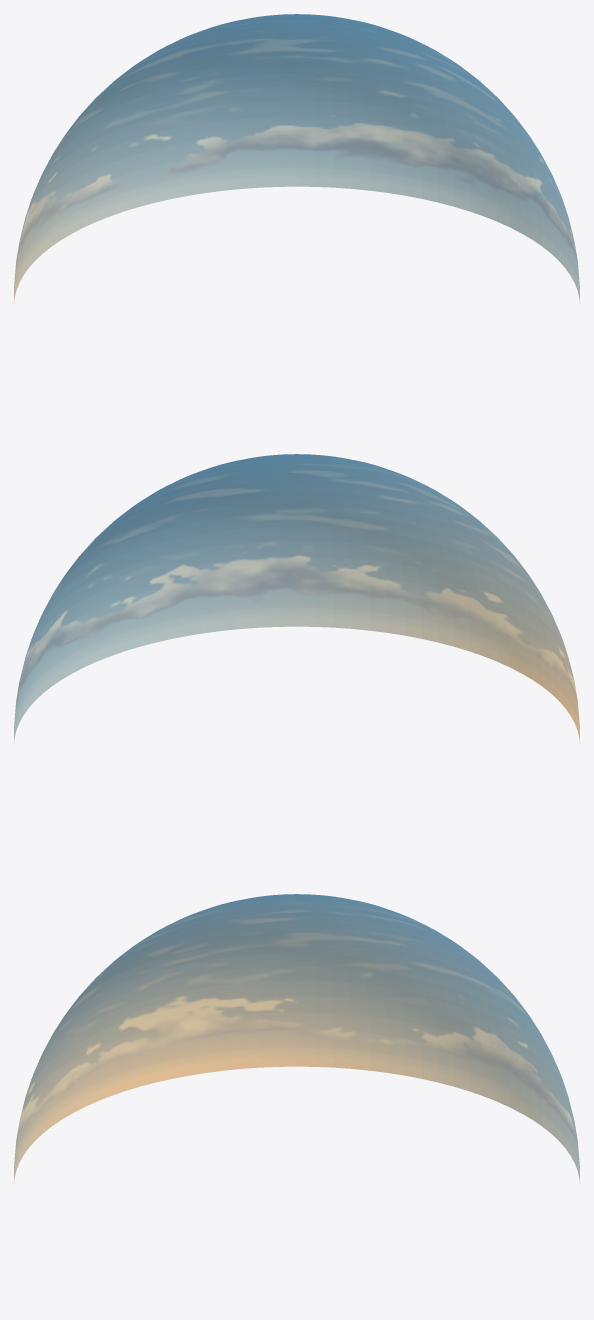
The model's file is marine-day.glb.
3 views of the same model, one above another, from view 1: azimuth 30°, elevation 25°; view 2: azimuth 150°, elevation 25°; view 3: azimuth 270°, elevation 25° (orthographic).
Visible parts, largest first — view 1: Marine sky; view 2: Marine sky; view 3: Marine sky.
Boxes of the visible parts, x1,y1,x2,y2 form: Marine sky: (14, 14, 579, 303); Marine sky: (14, 454, 579, 743); Marine sky: (14, 894, 579, 1183).
Size of the model in its own units: 5597 by 2898 by 5597.
1 material, 1 textured.
